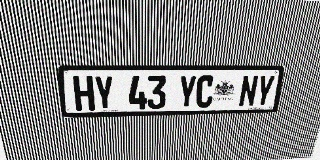3: (147, 75, 166, 109)
4: (128, 75, 147, 109)
C: (195, 75, 215, 108)
H: (72, 76, 95, 111)
N: (238, 75, 259, 107)
Y: (93, 76, 114, 110), (254, 75, 276, 106), (177, 75, 197, 108)
